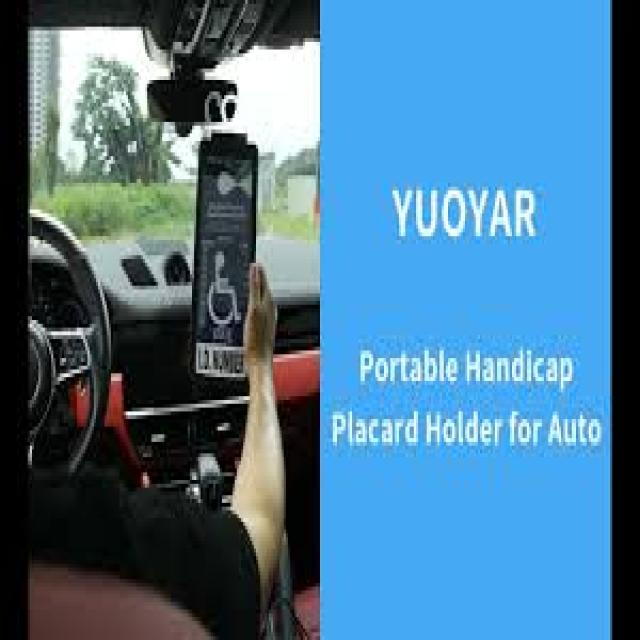car-handicap-placard: (205, 249, 243, 329)
